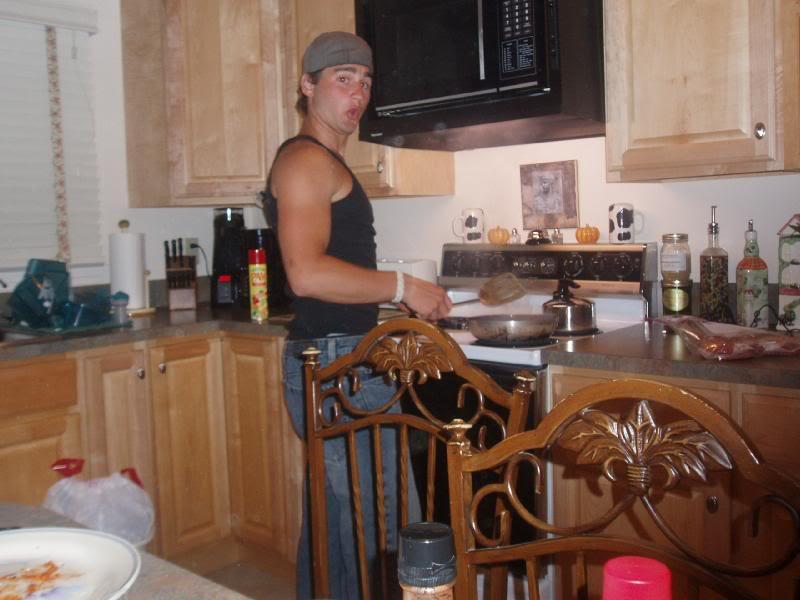person: (258, 31, 457, 598)
